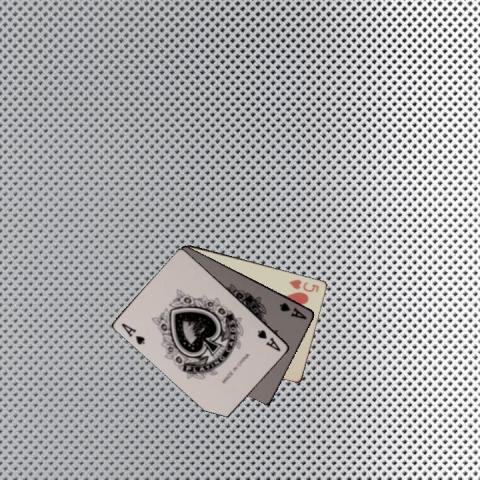5h: (286, 276, 321, 293)
As: (118, 320, 146, 346), (276, 299, 308, 321), (255, 326, 282, 352)
